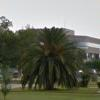Palm tree: (25, 22, 74, 89)
